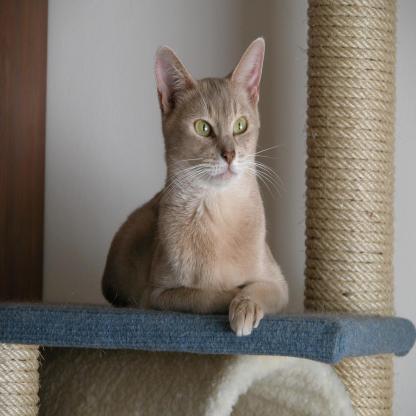cat: (100, 35, 290, 337)
